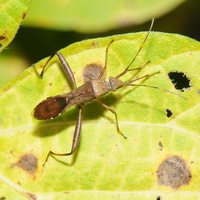insect: (33, 18, 159, 166)
